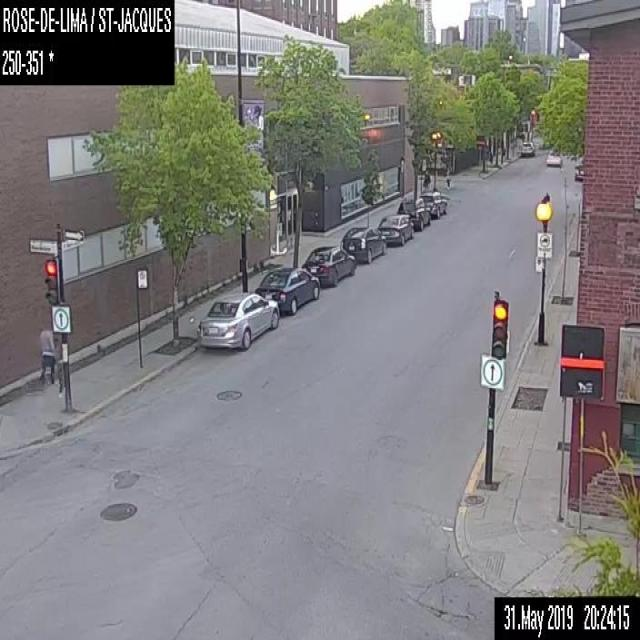pedestrian: (38, 319, 56, 385), (421, 168, 430, 192), (444, 169, 451, 190), (520, 133, 524, 143)
vehicle: (195, 286, 279, 351), (253, 267, 320, 313), (302, 247, 356, 286), (340, 225, 384, 264), (378, 213, 414, 245), (396, 196, 428, 230), (418, 190, 448, 218), (545, 147, 563, 164), (519, 140, 534, 155)
